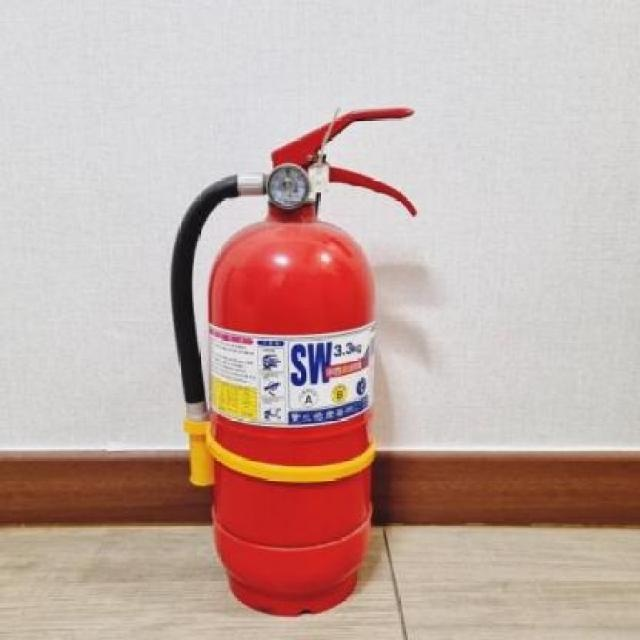fire extinguisher: (170, 107, 418, 618)
